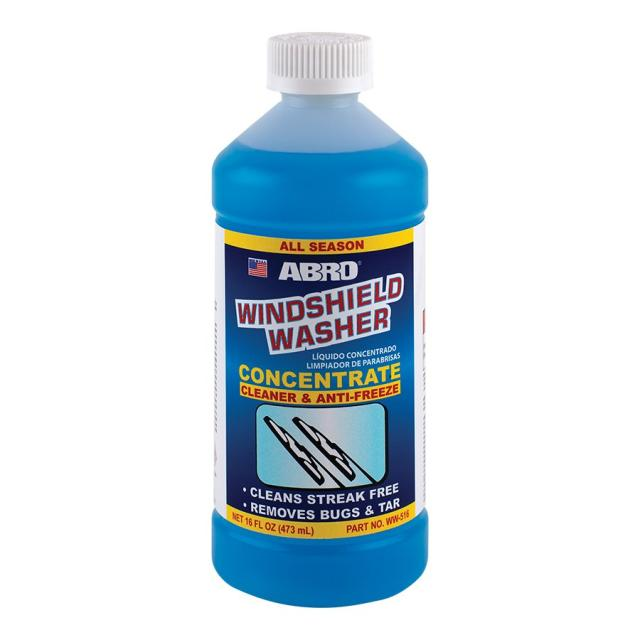winwinshield_washer: (205, 30, 434, 612)
